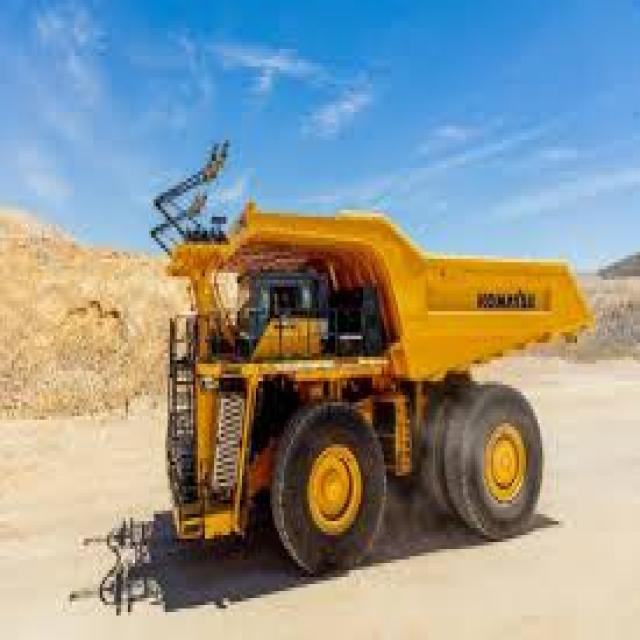dump_truck: (149, 199, 593, 584)
